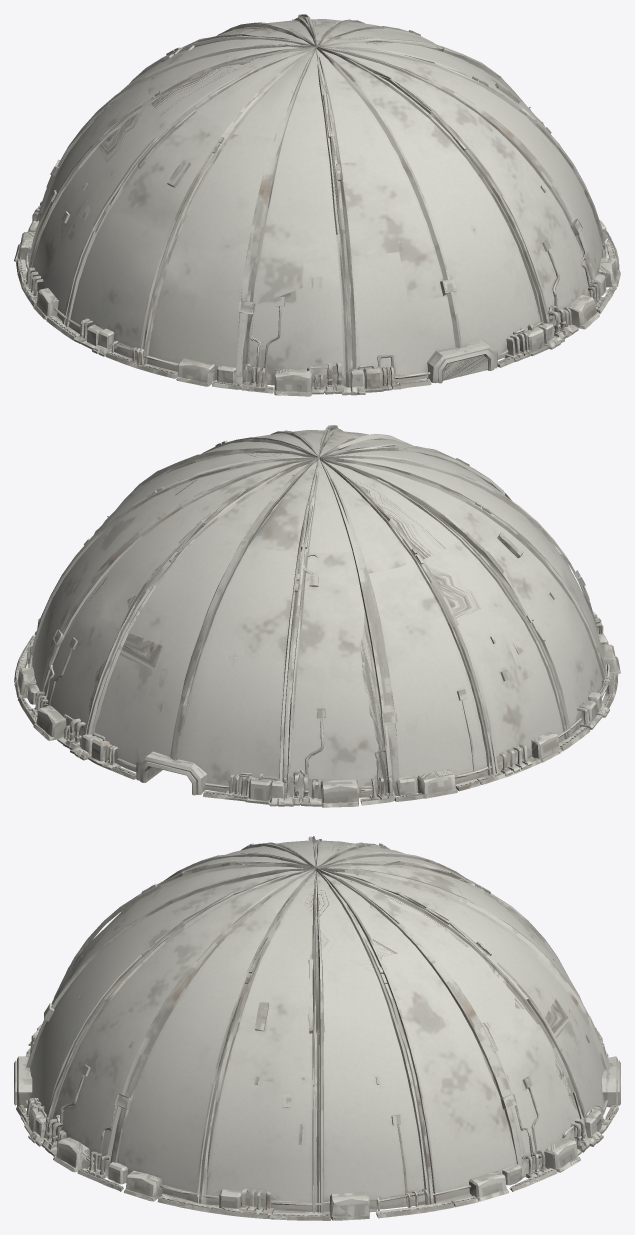
The model's file is industrial_dome_before_black_interior.fbx.
The picture shows the model from 3 angles, top to bottom: view 1: azimuth 30°, elevation 25°; view 2: azimuth 150°, elevation 25°; view 3: azimuth 270°, elevation 25°; orthographic projection.
Visible parts, largest first — view 1: IndustrialDome; view 2: IndustrialDome; view 3: IndustrialDome.
Boxes of the visible parts, x1,y1,x2,y2 form: IndustrialDome: (14, 14, 620, 396); IndustrialDome: (14, 425, 620, 807); IndustrialDome: (14, 836, 620, 1220).
Size of the model in its own units: 0.9997 by 0.407 by 0.9995.
